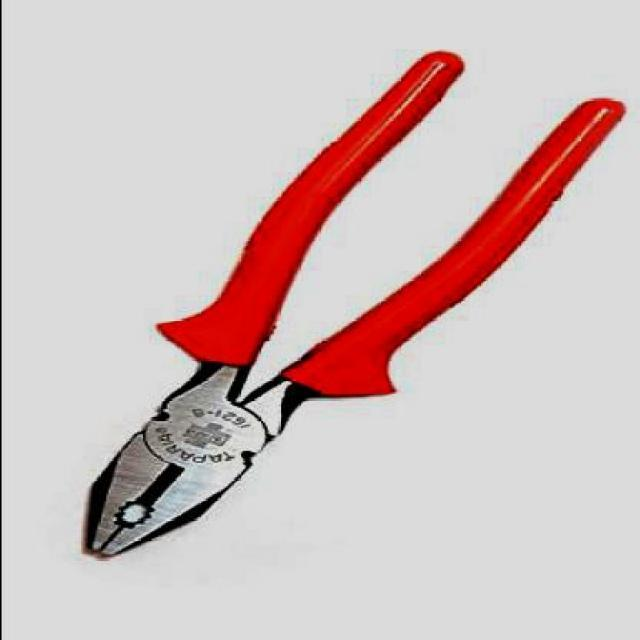pliers: (80, 50, 622, 567)
